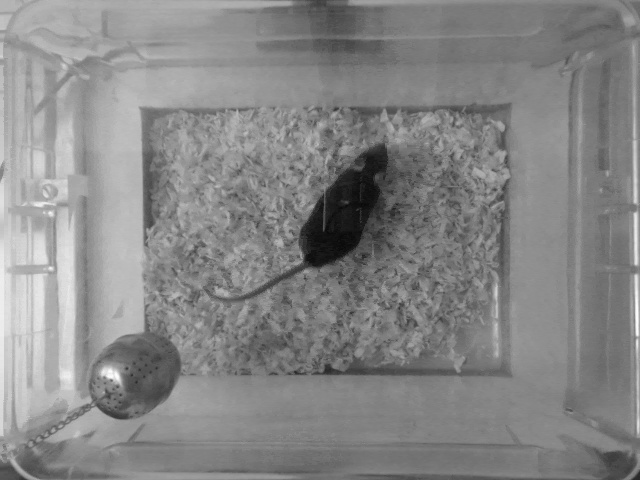mice: (204, 139, 386, 303)
